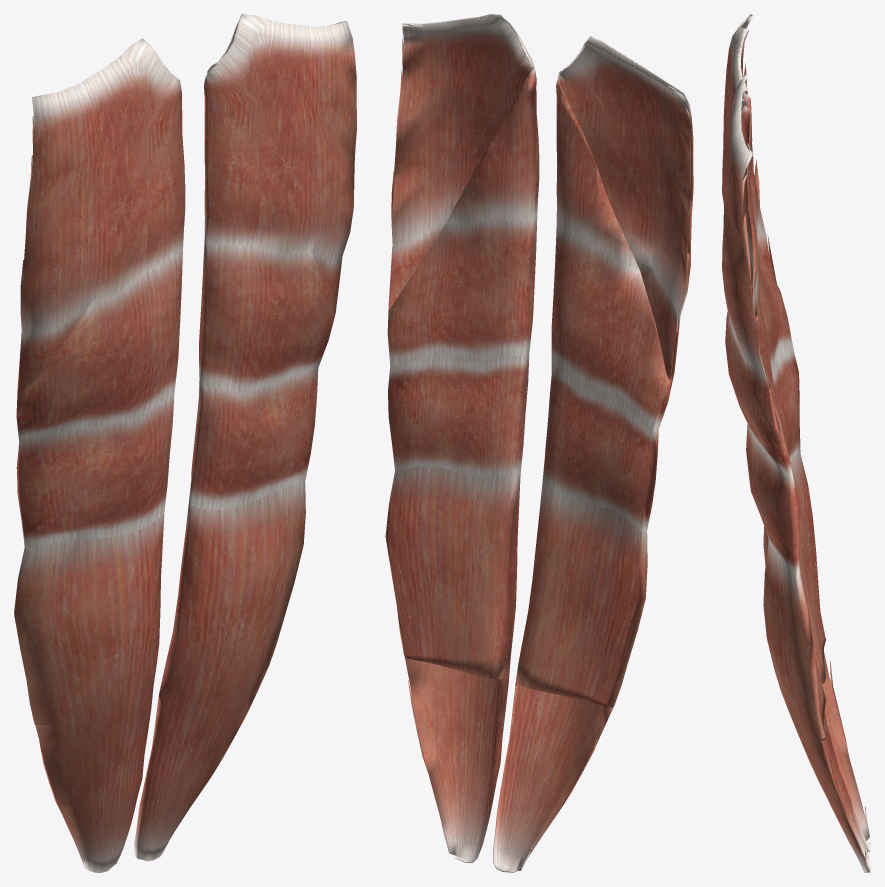
File: rectus_sheath_s119.glb
The picture shows the model from 3 angles, left to right: view 1: azimuth 30°, elevation 25°; view 2: azimuth 150°, elevation 25°; view 3: azimuth 270°, elevation 25°; orthographic projection. The views are drawn at different scales.
Parts seen in each view (by area): view 1: Rectus sheath.r, Rectus sheath.l; view 2: Rectus sheath.l, Rectus sheath.r; view 3: Rectus sheath.l, Rectus sheath.r.
Part boxes in pixels (x1,y1,x2,y2): Rectus sheath.r: (14,38,185,872); Rectus sheath.l: (134,14,356,861); Rectus sheath.l: (385,14,539,863); Rectus sheath.r: (493,36,693,872); Rectus sheath.l: (722,74,870,872); Rectus sheath.r: (722,14,870,852).
Bounding box in the file's own units: 0.1616 × 0.414 × 0.0692.
1 material, 1 textured.
